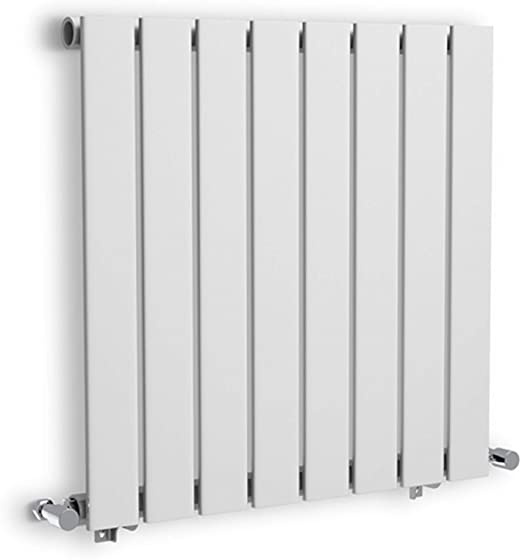Radiator: (69, 6, 520, 545)
